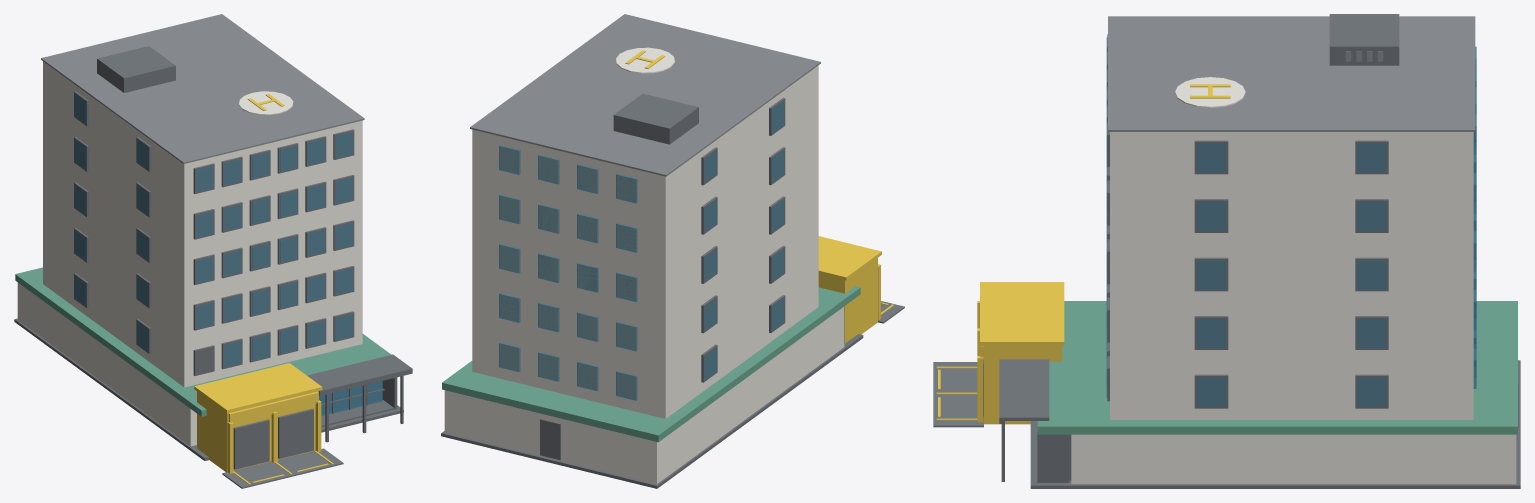
The model's file is hospital-district.glb.
3 renders of one model, left to right at view 1: azimuth 30°, elevation 25°; view 2: azimuth 150°, elevation 25°; view 3: azimuth 270°, elevation 25°, orthographic. The views are drawn at different scales.
Parts seen in each view (by area): view 1: hospital-ward-tower, hospital-ward-roof, hospital-podium-core, hospital-green-band, ed-bay-roof-cap, hospital-roof-plant, ed-bay-volume, ed-apron-main, public-lobby-canopy-roof, ed-bay-mouth-void-01, ed-bay-mouth-void-02, ground-contact-plinth (+39 smaller); view 2: hospital-ward-tower, hospital-ward-roof, hospital-podium-core, hospital-green-band, hospital-roof-plant, ed-bay-volume, ground-contact-plinth, ed-bay-roof-cap, hospital-helipad, opening-rear-service-01, ward-window-rear-01-04, ward-window-rear-03-01 (+28 smaller); view 3: hospital-ward-tower, hospital-ward-roof, hospital-podium-core, hospital-green-band, ed-bay-roof-cap, hospital-roof-plant, ground-contact-plinth, public-lobby-canopy-roof, ed-apron-main, ed-bay-volume, public-lobby-reveal-east, hospital-helipad (+20 smaller).
Boxes of the visible parts, x1,y1,x2,y2 form: hospital-ward-tower: [43, 61, 362, 387]; hospital-ward-roof: [41, 14, 364, 163]; hospital-podium-core: [17, 282, 196, 446]; hospital-green-band: [15, 267, 391, 416]; ed-bay-roof-cap: [194, 363, 322, 412]; hospital-roof-plant: [97, 46, 175, 92]; ed-bay-volume: [197, 391, 318, 472]; ed-apron-main: [222, 448, 343, 488]; public-lobby-canopy-roof: [307, 354, 411, 393]; ed-bay-mouth-void-01: [233, 419, 269, 469]; ed-bay-mouth-void-02: [278, 408, 313, 458]; ground-contact-plinth: [14, 318, 403, 460]; hospital-ward-tower: [472, 65, 818, 418]; hospital-ward-roof: [470, 14, 820, 176]; hospital-podium-core: [444, 306, 844, 483]; hospital-green-band: [442, 286, 860, 442]; hospital-roof-plant: [613, 93, 698, 144]; ed-bay-volume: [818, 258, 877, 343]; ground-contact-plinth: [441, 334, 863, 488]; ed-bay-roof-cap: [818, 236, 881, 280]; hospital-helipad: [616, 47, 674, 73]; opening-rear-service-01: [540, 419, 560, 459]; ward-window-rear-01-04: [499, 342, 520, 372]; ward-window-rear-03-01: [616, 272, 637, 302]; hospital-ward-tower: [1110, 132, 1473, 419]; hospital-ward-roof: [1108, 16, 1475, 131]; hospital-podium-core: [1071, 434, 1516, 484]; hospital-green-band: [1037, 301, 1517, 434]; ed-bay-roof-cap: [980, 282, 1064, 345]; hospital-roof-plant: [1329, 14, 1399, 65]; ground-contact-plinth: [1030, 360, 1520, 488]; public-lobby-canopy-roof: [1000, 359, 1049, 420]; ed-apron-main: [933, 362, 983, 427]; ed-bay-volume: [984, 346, 1062, 424]; public-lobby-reveal-east: [1037, 430, 1069, 482]; hospital-helipad: [1175, 77, 1245, 107].
Size of the model in its own units: 13.89 by 19.2 by 27.45.
